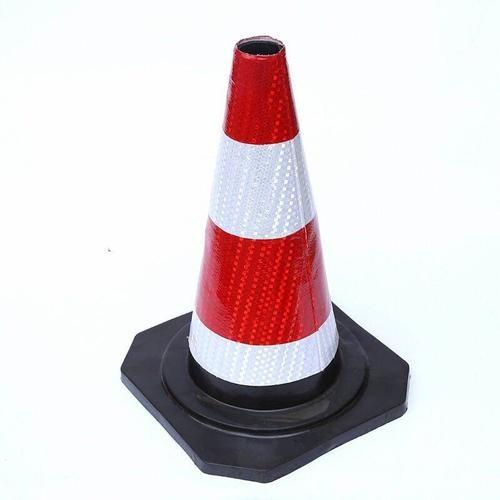cone_barrel: (162, 49, 365, 422)
